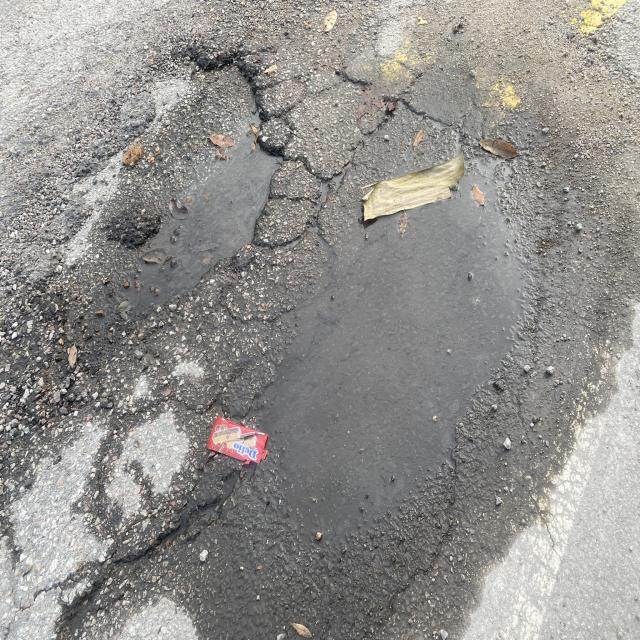Pothole: (39, 20, 308, 378)
